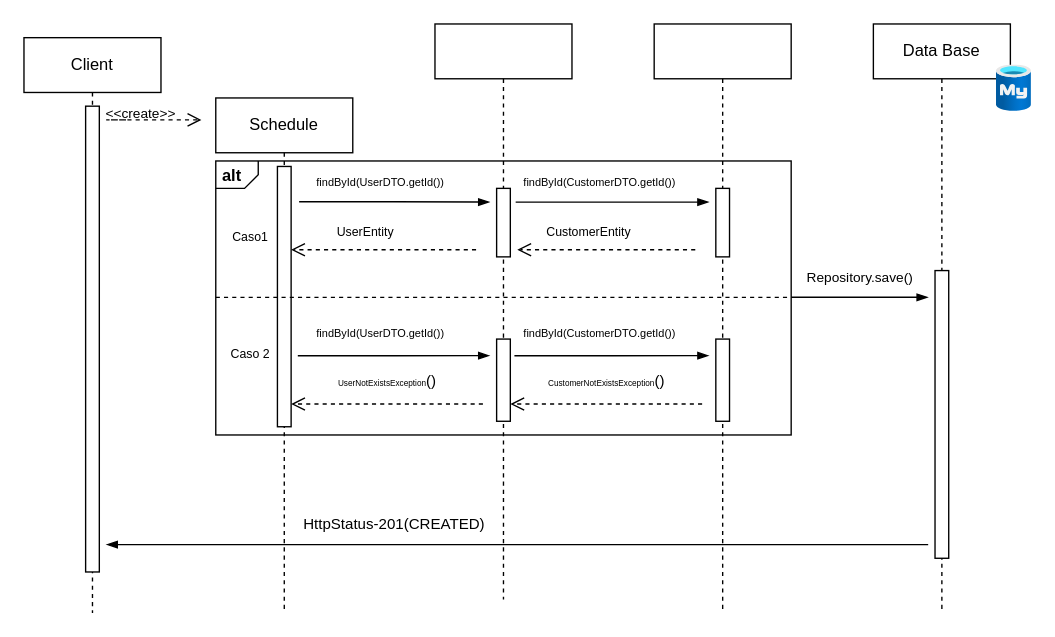
The diagram is 1055 pixels wide and 637 high, and some of its shapes have lost their labels. Here are the shapes that lost their labels. From the top down, the centre of each, then its label:
At pixel 503 311: "User".
At pixel 722 318: "Customer".
